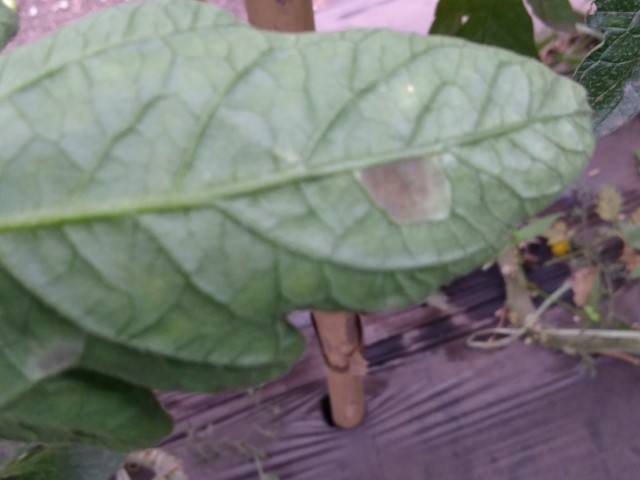negra: (353, 158, 459, 223), (27, 335, 82, 379)
